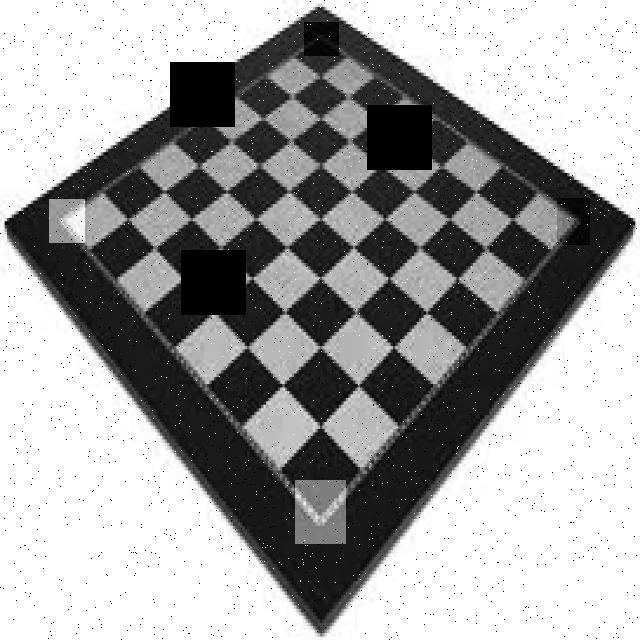chess-table-corners: (295, 480, 346, 544), (49, 199, 85, 243), (557, 198, 590, 245), (304, 22, 339, 56)
